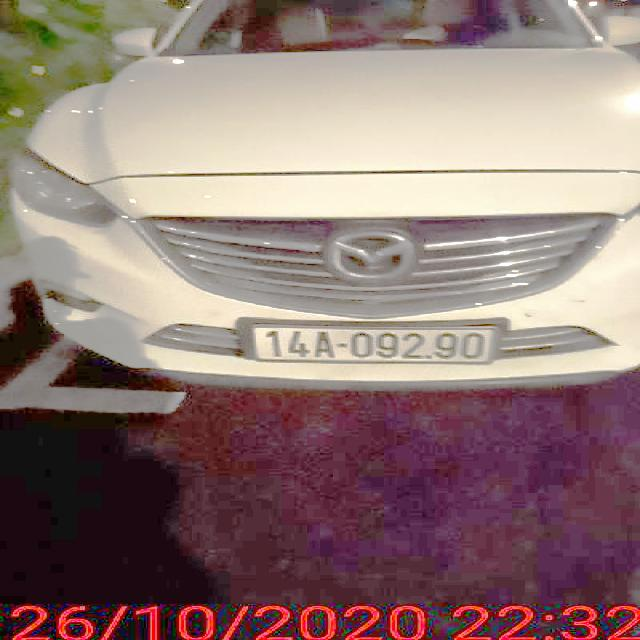license_plate: (255, 326, 499, 364)
